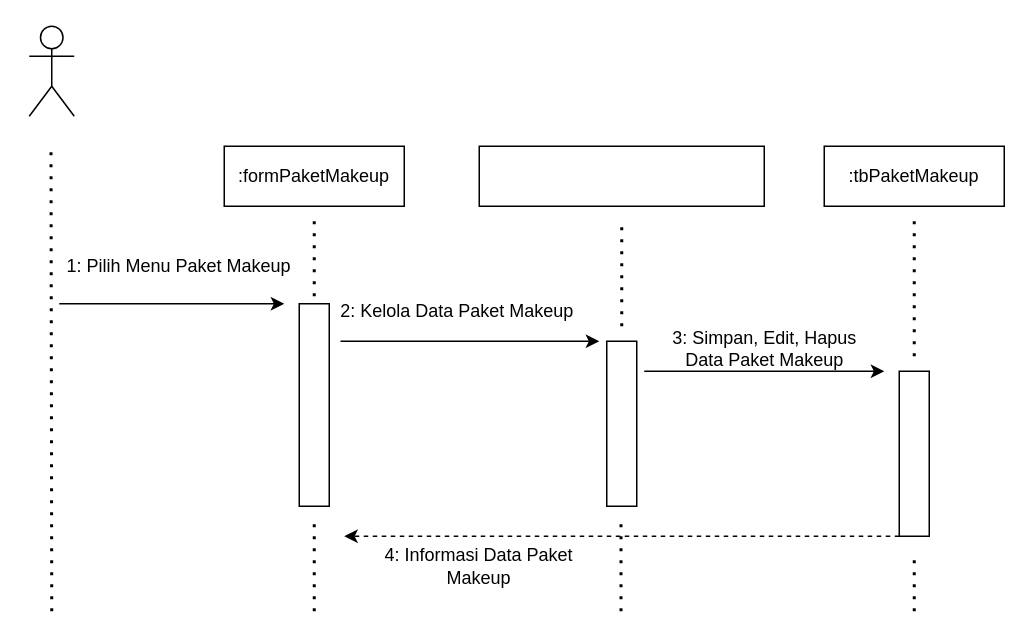
Image size: 1031x641. Some labels were removed from this diagram. The shapes that lost their labels are listed below. From the top down, each one's box as (x1, y1, x2, y2) in pixels, then its label:
(28, 25, 74, 116): Admin
(478, 145, 764, 206): :formKelolaDataPaketMakeup
